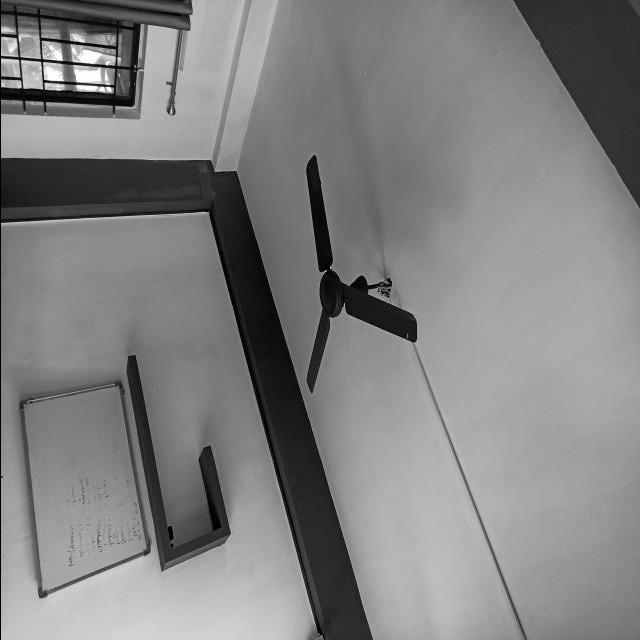fan: (304, 155, 418, 395)
